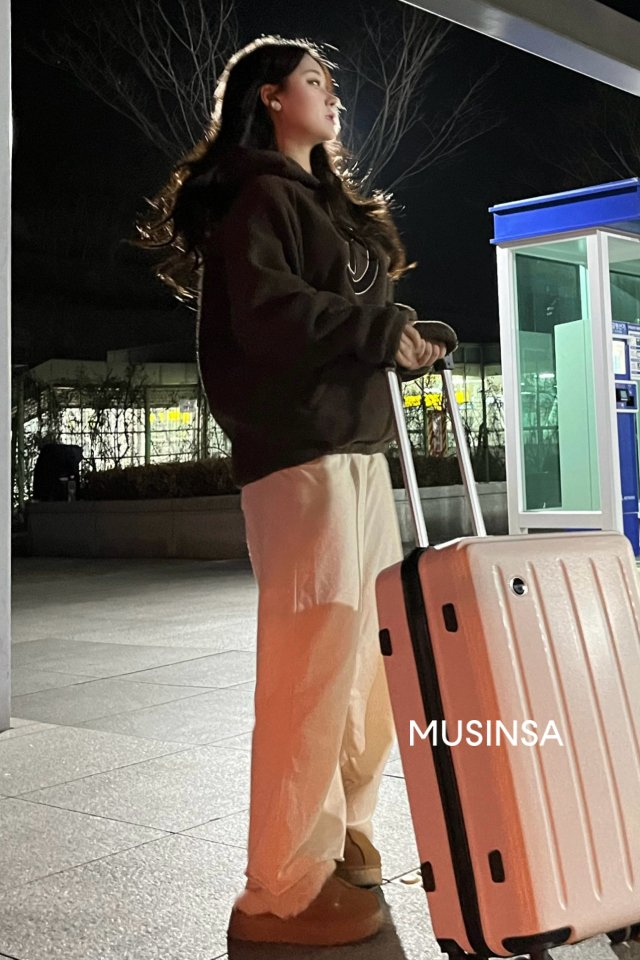Boots: (223, 825, 399, 950)
Hoodie: (171, 137, 414, 467)
Pants: (223, 431, 390, 886)
